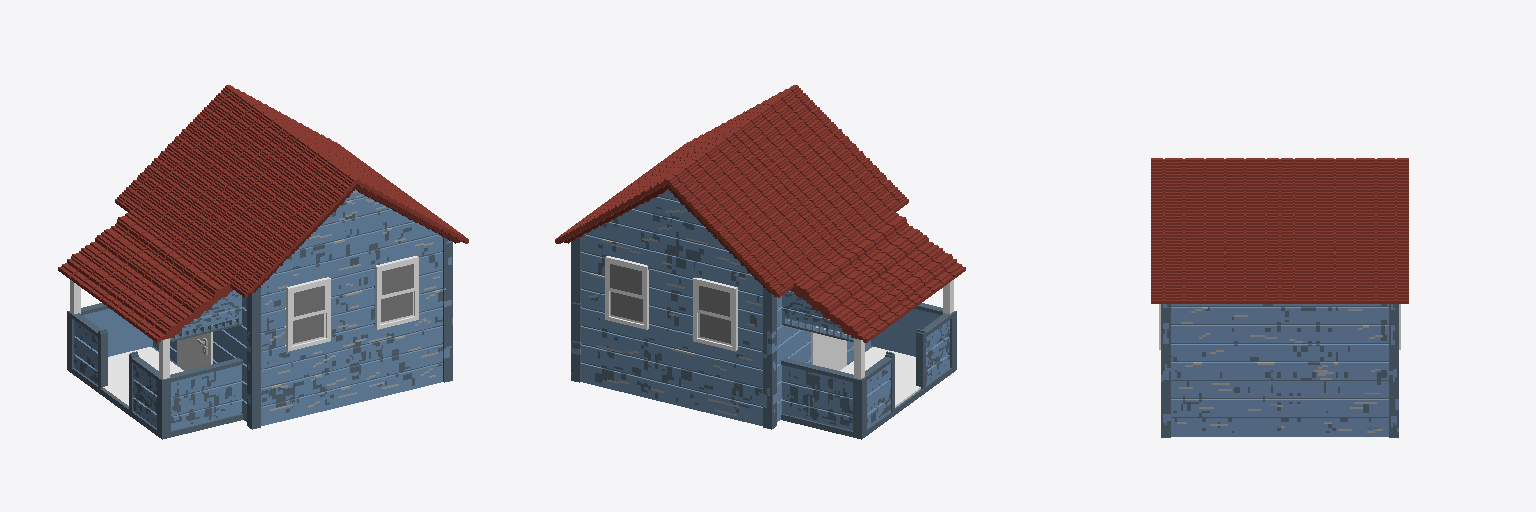
3 renders of one model, left to right at view 1: azimuth 30°, elevation 25°; view 2: azimuth 150°, elevation 25°; view 3: azimuth 270°, elevation 25°, orthographic.
Parts seen in each view (by area): view 1: object 1; view 2: object 1; view 3: object 1.
Boxes of the visible parts, <box> form: object 1: <box>58,85,468,439</box>; object 1: <box>555,85,965,439</box>; object 1: <box>1151,158,1408,437</box>.
Bounding box in the file's own units: 16.8 × 12.4 × 12.7.
1 materials, 1 textured.